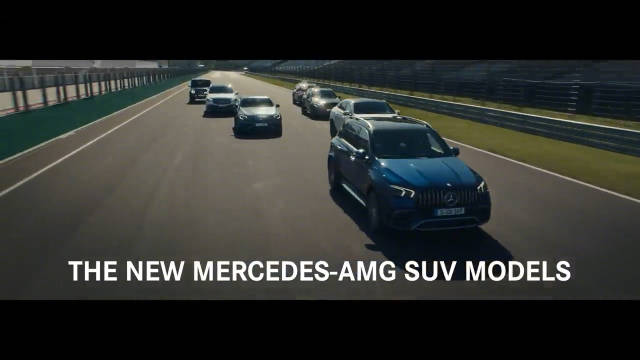other: (325, 119, 496, 241), (295, 84, 344, 122), (236, 97, 284, 135), (203, 83, 248, 117), (189, 76, 213, 98)
